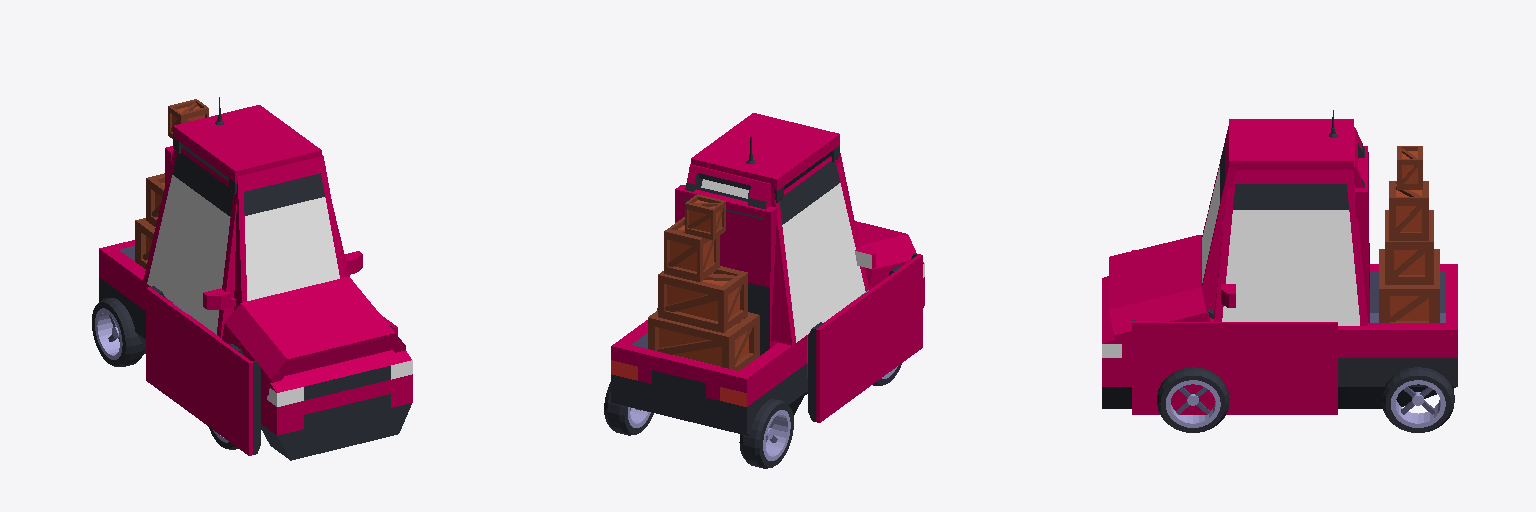
Rendered from Foodoracar.obj.
3 views of the same model, side by side, from view 1: azimuth 30°, elevation 25°; view 2: azimuth 150°, elevation 25°; view 3: azimuth 270°, elevation 25° (orthographic).
Parts seen in each view (by area): view 1: body_topWindshield, body_edge, body_frontTruckFlat, spoiler_round, body_backBedClosed, wheel_cycleSpokes, detail_crateLong, detail_mirror; view 2: body_edge, detail_crateLong, body_topWindshield, body_backBedClosed, body_topBackVan, wheel_cycleSpokes, spoiler_round, body_topBackVanWindow%; view 3: body_topWindshield, body_edge, body_backBedClosed, detail_crateLong, spoiler_round, wheel_cycleSpokes, body_frontTruckFlat, body_topBackVan, body_topBackVanWindow%.
Part boxes in pixels (bbox=[...]): body_topWindshield: bbox=[143, 148, 349, 337]; body_edge: bbox=[146, 105, 397, 455]; body_frontTruckFlat: bbox=[261, 350, 412, 460]; spoiler_round: bbox=[222, 277, 405, 395]; body_backBedClosed: bbox=[99, 240, 187, 353]; wheel_cycleSpokes: bbox=[92, 298, 238, 449]; detail_crateLong: bbox=[135, 99, 208, 268]; detail_mirror: bbox=[203, 251, 362, 309]; body_edge: bbox=[691, 113, 922, 422]; detail_crateLong: bbox=[648, 194, 759, 370]; body_topWindshield: bbox=[657, 153, 869, 345]; body_backBedClosed: bbox=[611, 320, 806, 435]; body_topBackVan: bbox=[675, 185, 777, 355]; wheel_cycleSpokes: bbox=[604, 364, 901, 468]; spoiler_round: bbox=[855, 221, 915, 297]; body_topBackVanWindow%: bbox=[683, 164, 770, 219]; body_topWindshield: bbox=[1202, 126, 1367, 325]; body_edge: bbox=[1132, 119, 1353, 414]; body_backBedClosed: bbox=[1338, 264, 1457, 408]; detail_crateLong: bbox=[1379, 146, 1439, 322]; spoiler_round: bbox=[1109, 235, 1209, 338]; wheel_cycleSpokes: bbox=[1157, 367, 1454, 432]; body_frontTruckFlat: bbox=[1102, 276, 1131, 408]; body_topBackVan: bbox=[1355, 146, 1369, 322]; body_topBackVanWindow%: bbox=[1241, 127, 1364, 187].
Size of the model in its own units: 1.2 by 2 by 2.28.